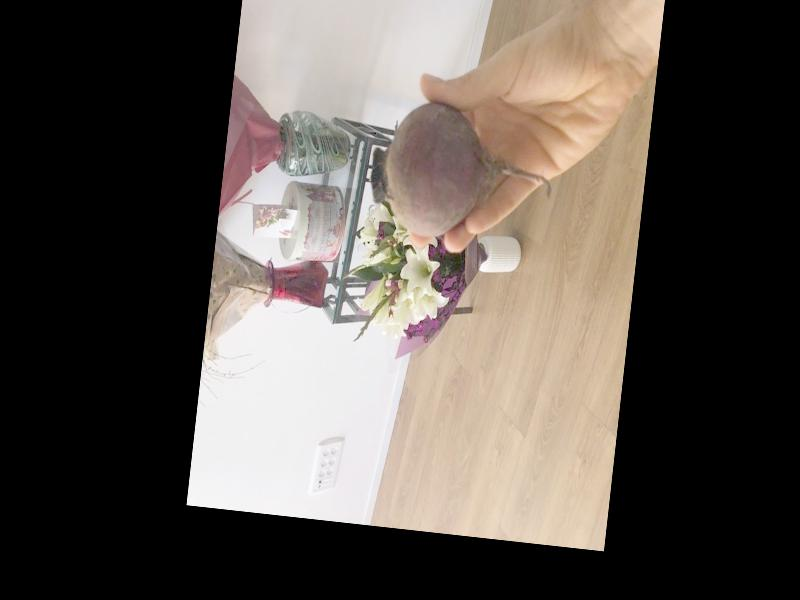Beet: (364, 96, 558, 250)
